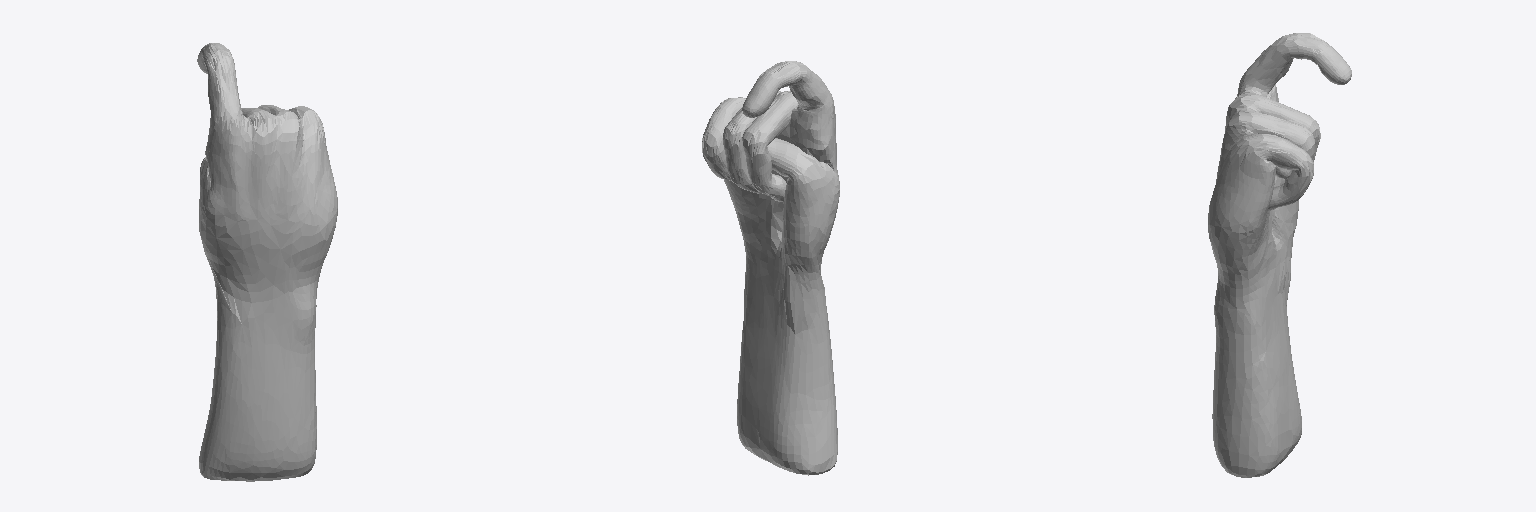
File: mainx.obj
3 views of the same model, side by side, from view 1: azimuth 30°, elevation 25°; view 2: azimuth 150°, elevation 25°; view 3: azimuth 270°, elevation 25° (orthographic).
Parts seen in each view (by area): view 1: ZBrush_defualt_group; view 2: ZBrush_defualt_group; view 3: ZBrush_defualt_group.
Boxes of the visible parts, x1,y1,x2,y2 form: ZBrush_defualt_group: [197, 43, 337, 481]; ZBrush_defualt_group: [702, 61, 839, 475]; ZBrush_defualt_group: [1208, 33, 1351, 477].
Bounding box in the file's own units: 2.52 × 8.26 × 2.61.